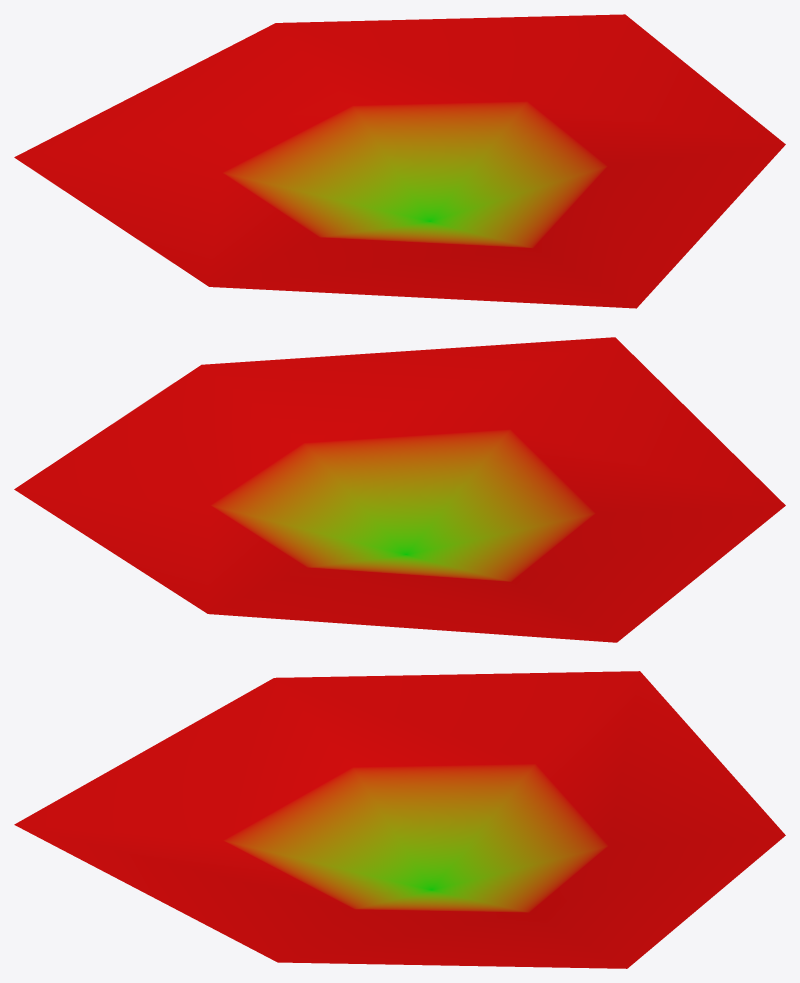
Rendered from Var9_LOD3.fbx.
3 renders of one model, top to bottom at view 1: azimuth 30°, elevation 25°; view 2: azimuth 150°, elevation 25°; view 3: azimuth 270°, elevation 25°, orthographic.
Visible parts, largest first — view 1: _qetd_Var9_LOD3; view 2: _qetd_Var9_LOD3; view 3: _qetd_Var9_LOD3.
Part boxes in pixels (bbox=[...]): _qetd_Var9_LOD3: bbox=[14, 14, 785, 308]; _qetd_Var9_LOD3: bbox=[14, 337, 785, 642]; _qetd_Var9_LOD3: bbox=[14, 671, 785, 968].
Size of the model in its own units: 34.55 by 3.53 by 37.86.
